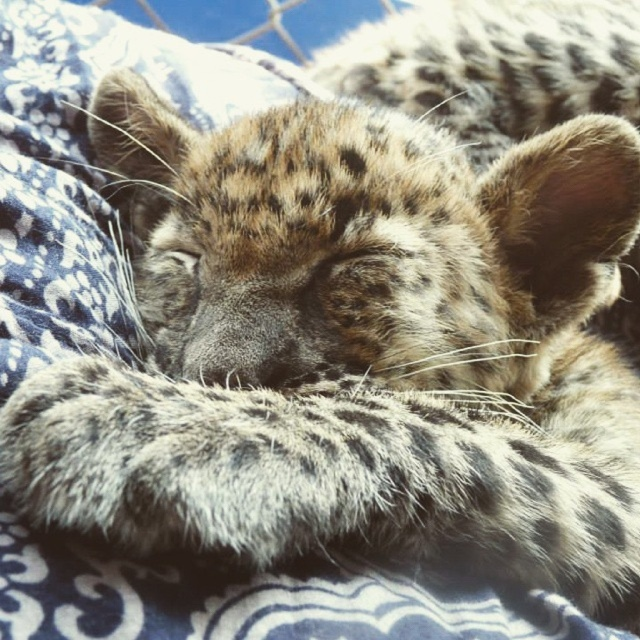Leopard: (0, 0, 640, 624)
